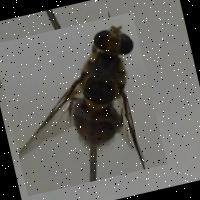Oriental-fruit-fly: (0, 12, 166, 196)
